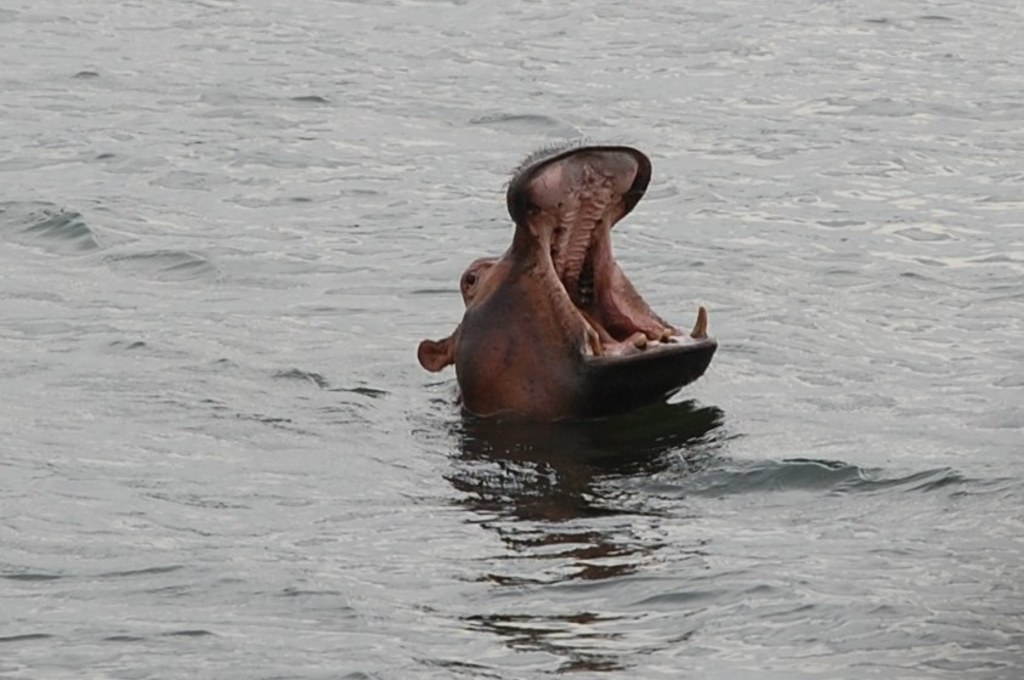person: (414, 142, 688, 420)
